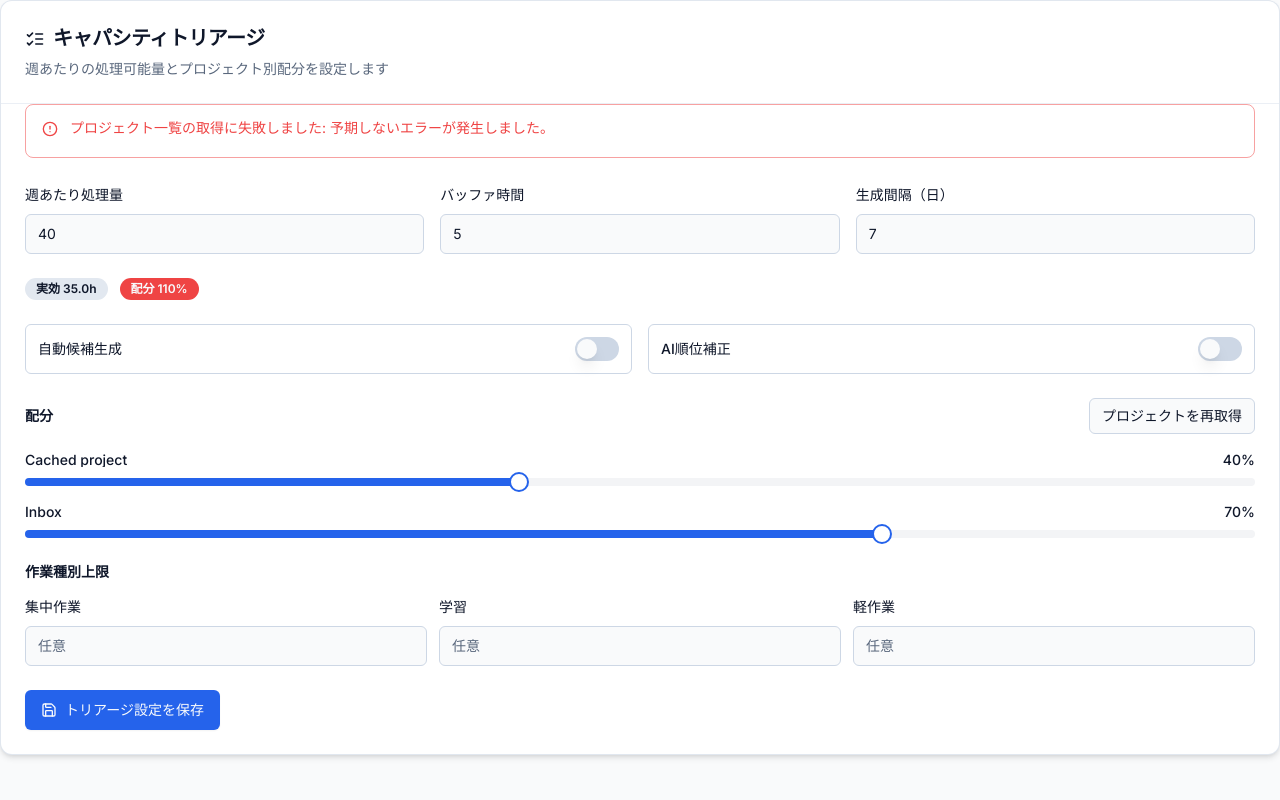
Test: TriageSettingsCard › keeps cached projects editable after a background refetch error
Expected: the text "Cached project" is shown, [25,452,127,466]
Click the button "トリアージ設定を保存" at (122, 710), box [25,690,220,730]
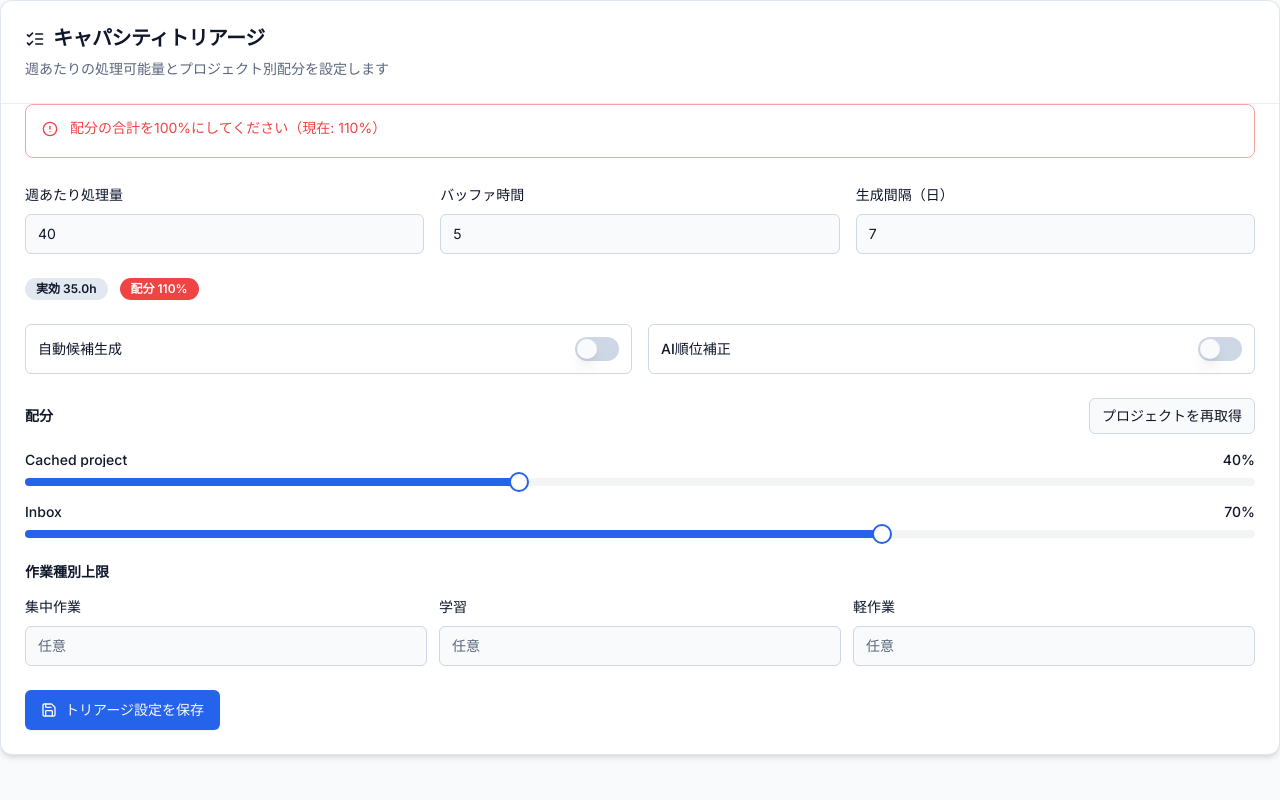
Expected: the text "配分の合計を100%にしてください（現在: 110%）" is shown, [70,118,386,136]
